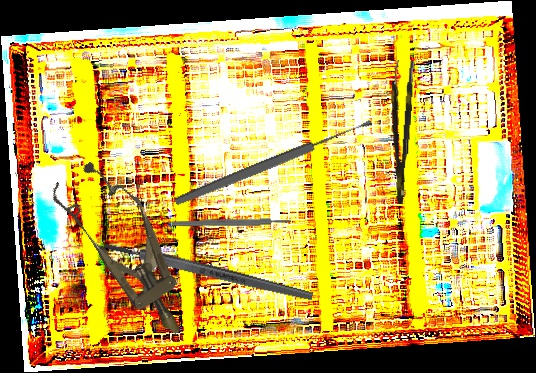Scalpel Handle: (103, 238, 314, 304), (171, 217, 292, 228)
Speculum: (44, 150, 210, 353)
Surgical Spoon: (173, 116, 374, 209)
Tissue Forceps: (384, 59, 415, 205)
